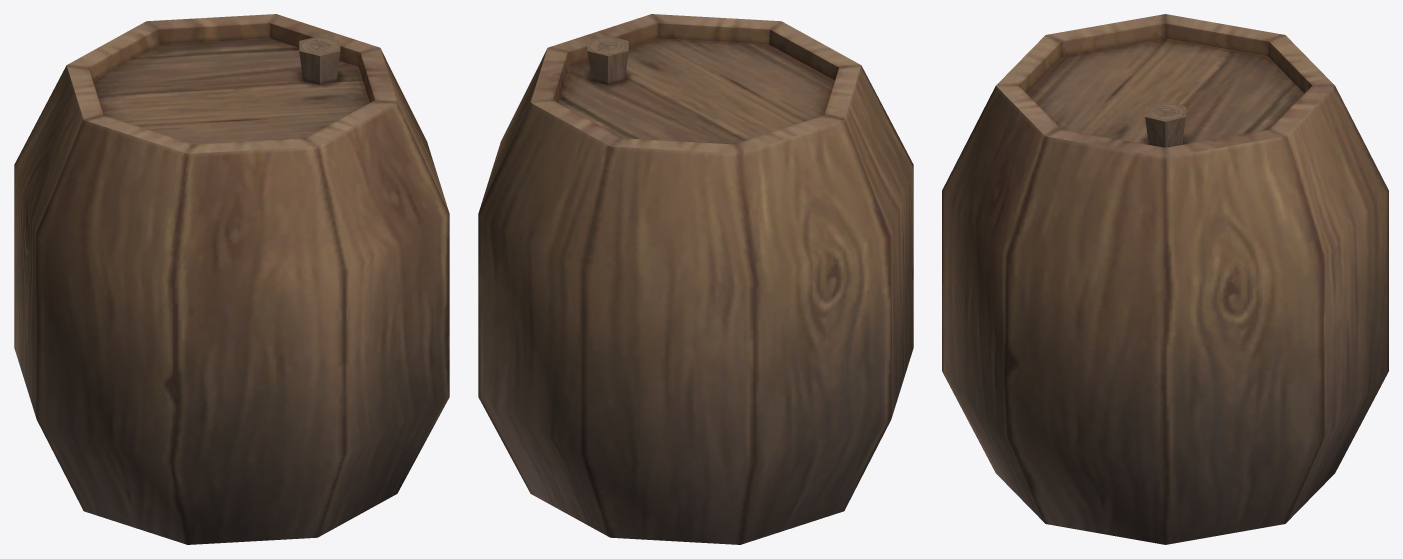
The model's file is D38_BARREL_T.obj.
The picture shows the model from 3 angles, left to right: view 1: azimuth 30°, elevation 25°; view 2: azimuth 150°, elevation 25°; view 3: azimuth 270°, elevation 25°; orthographic projection.
Parts seen in each view (by area): view 1: D38_BARREL_T; view 2: D38_BARREL_T; view 3: D38_BARREL_T.
Boxes of the visible parts, left/top/right/bottom form: D38_BARREL_T: left=14, top=14, right=449, bottom=544; D38_BARREL_T: left=478, top=14, right=913, bottom=544; D38_BARREL_T: left=942, top=14, right=1388, bottom=544.
Size of the model in its own units: 1 by 0.9973 by 1.
1 material, 1 textured.
